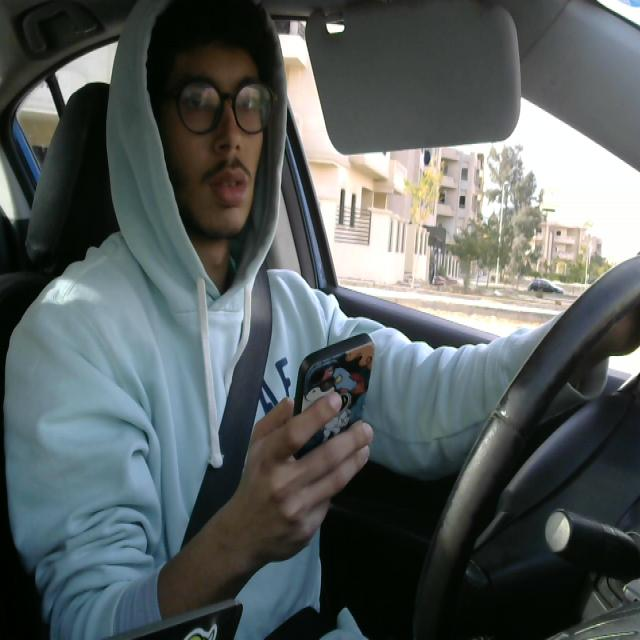mobile use: (296, 333, 382, 495)
